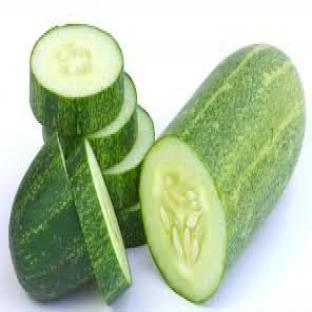Cucumber: (140, 45, 304, 302), (9, 136, 92, 300), (68, 140, 131, 304), (30, 24, 123, 135), (103, 107, 154, 211), (86, 74, 137, 170), (116, 204, 145, 247), (58, 134, 81, 159)
